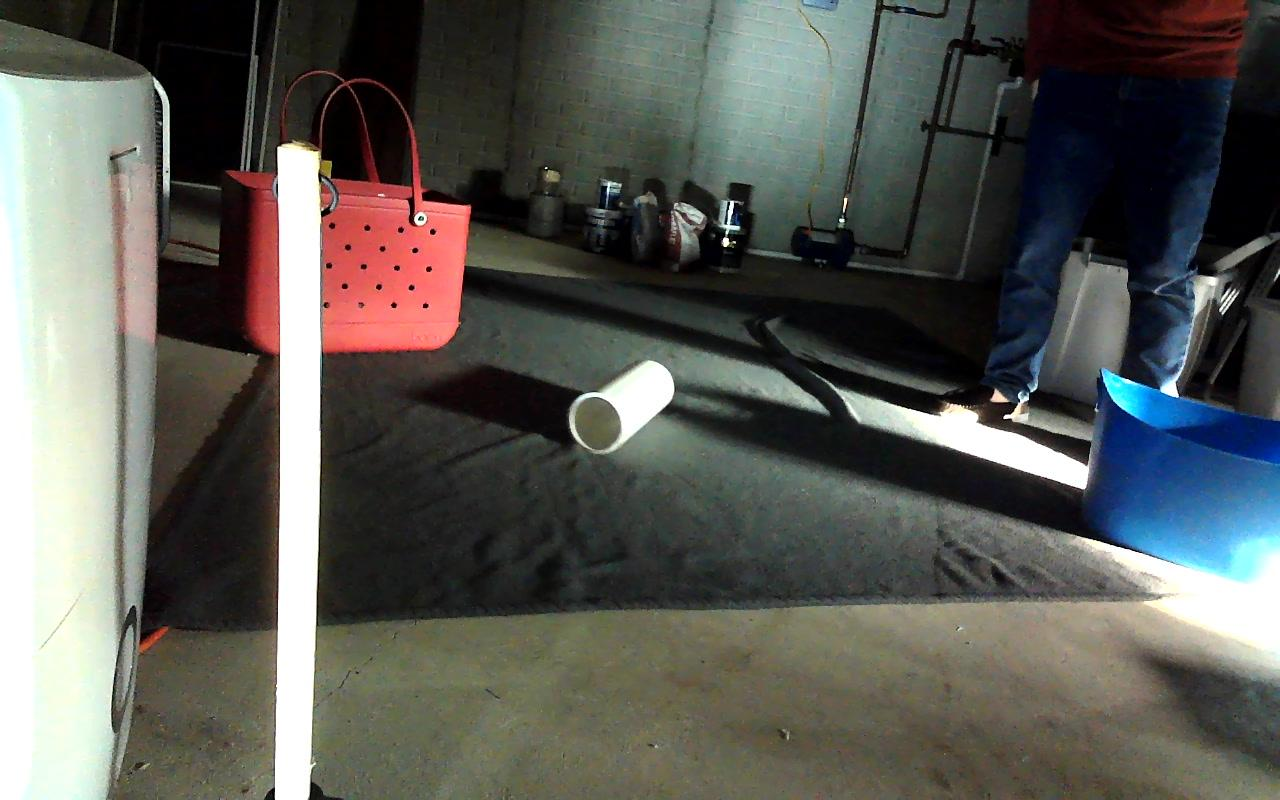coral: (569, 361, 674, 454)
